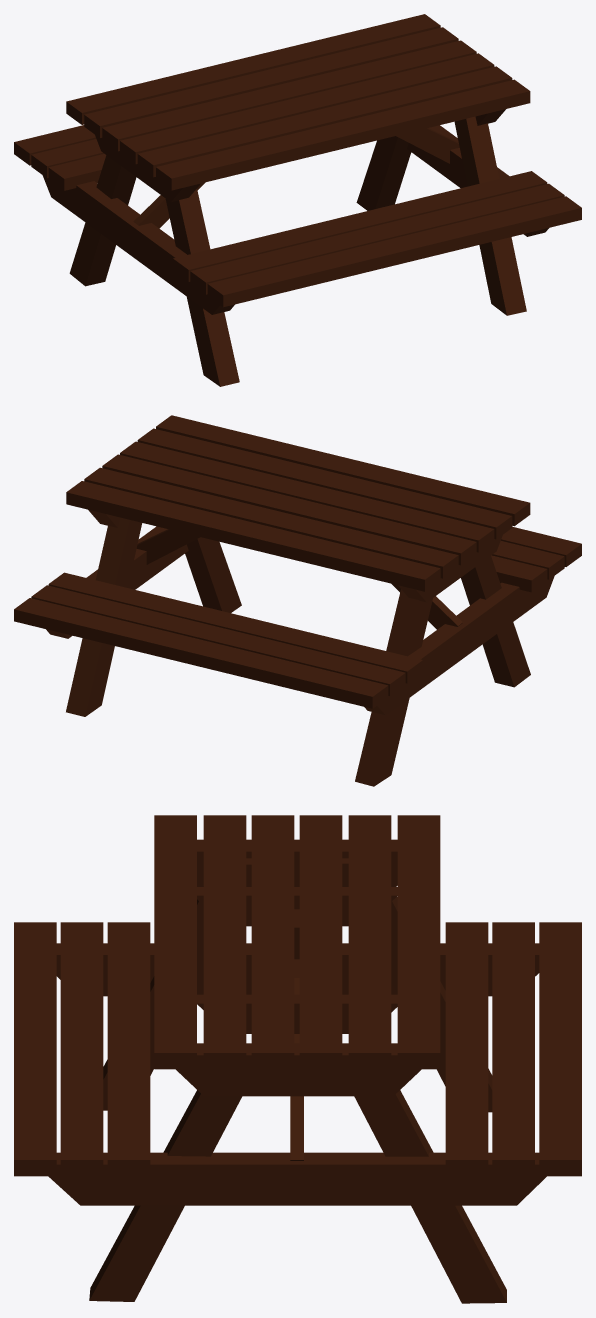
File: Picnic Bench.obj
3 renders of one model, top to bottom at view 1: azimuth 30°, elevation 25°; view 2: azimuth 150°, elevation 25°; view 3: azimuth 270°, elevation 25°, orthographic. The views are drawn at different scales.
Visible parts, largest first — view 1: Top, Base, FrontSeat_Seat, BackSeat_Seat; view 2: Top, Base, BackSeat_Seat, FrontSeat_Seat; view 3: Top, Base, FrontSeat_Seat, BackSeat_Seat.
Part boxes in pixels (bbox=[...]): Top: bbox=[66, 14, 530, 190]; Base: bbox=[42, 109, 548, 386]; FrontSeat_Seat: bbox=[173, 171, 581, 307]; BackSeat_Seat: bbox=[14, 125, 106, 190]; Top: bbox=[66, 415, 530, 591]; Base: bbox=[46, 509, 554, 786]; BackSeat_Seat: bbox=[14, 572, 422, 708]; FrontSeat_Seat: bbox=[491, 526, 581, 592]; Top: bbox=[154, 815, 440, 1069]; Base: bbox=[48, 839, 546, 1303]; FrontSeat_Seat: bbox=[14, 922, 150, 1176]; BackSeat_Seat: bbox=[445, 922, 581, 1176].
Size of the model in its own units: 147 by 77.08 by 149.
